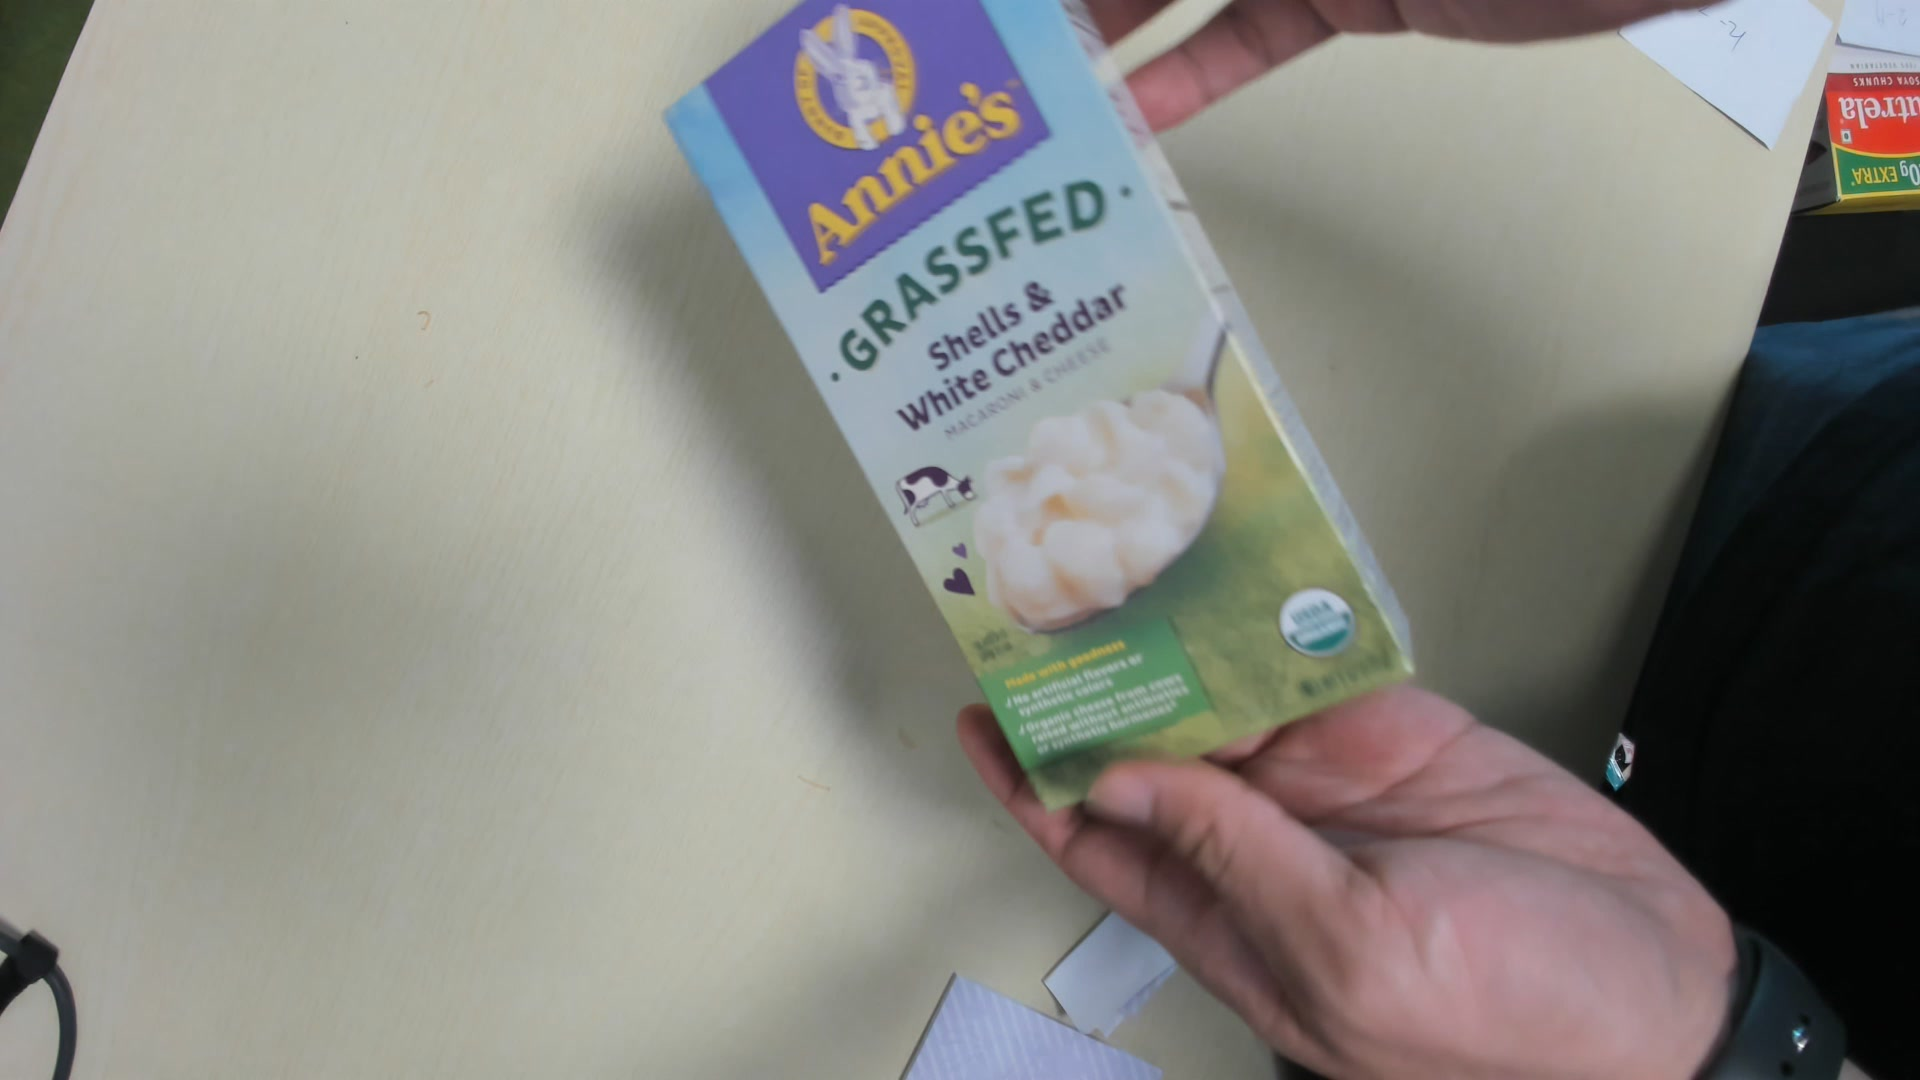InstantMeals_100_199g_NonHalal_NonHealthy: (662, 3, 1429, 810)
